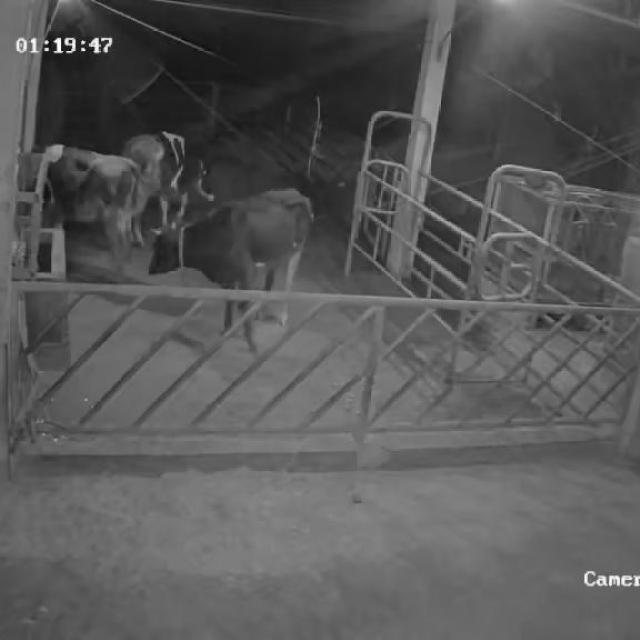standing: (148, 182, 313, 346), (39, 138, 140, 286), (115, 122, 216, 220)
